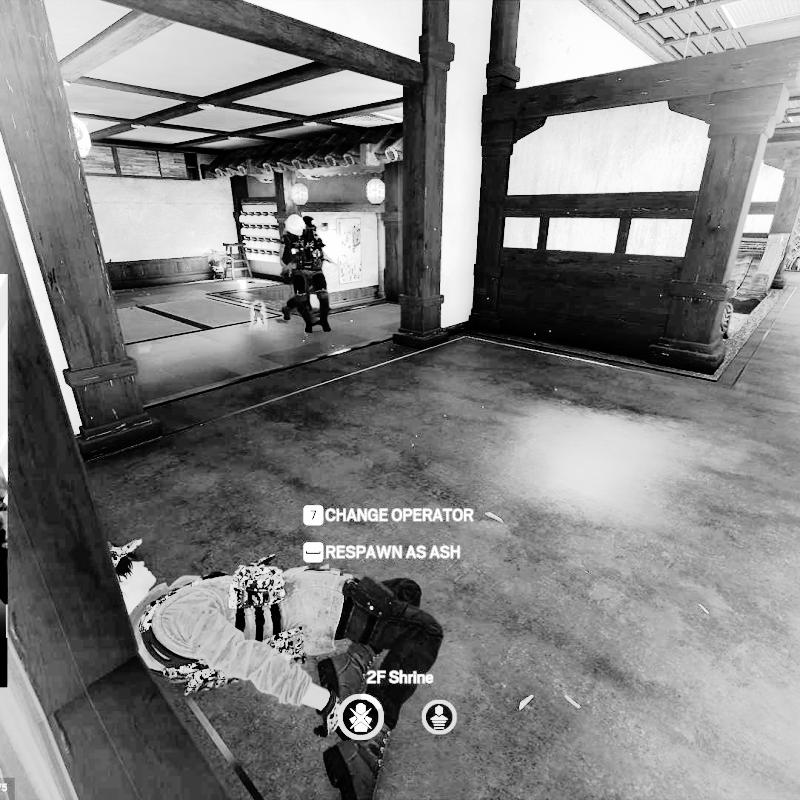Character: (111, 531, 448, 797), (278, 212, 334, 336)
Head: (112, 541, 158, 605), (286, 214, 304, 236), (304, 214, 316, 231)
